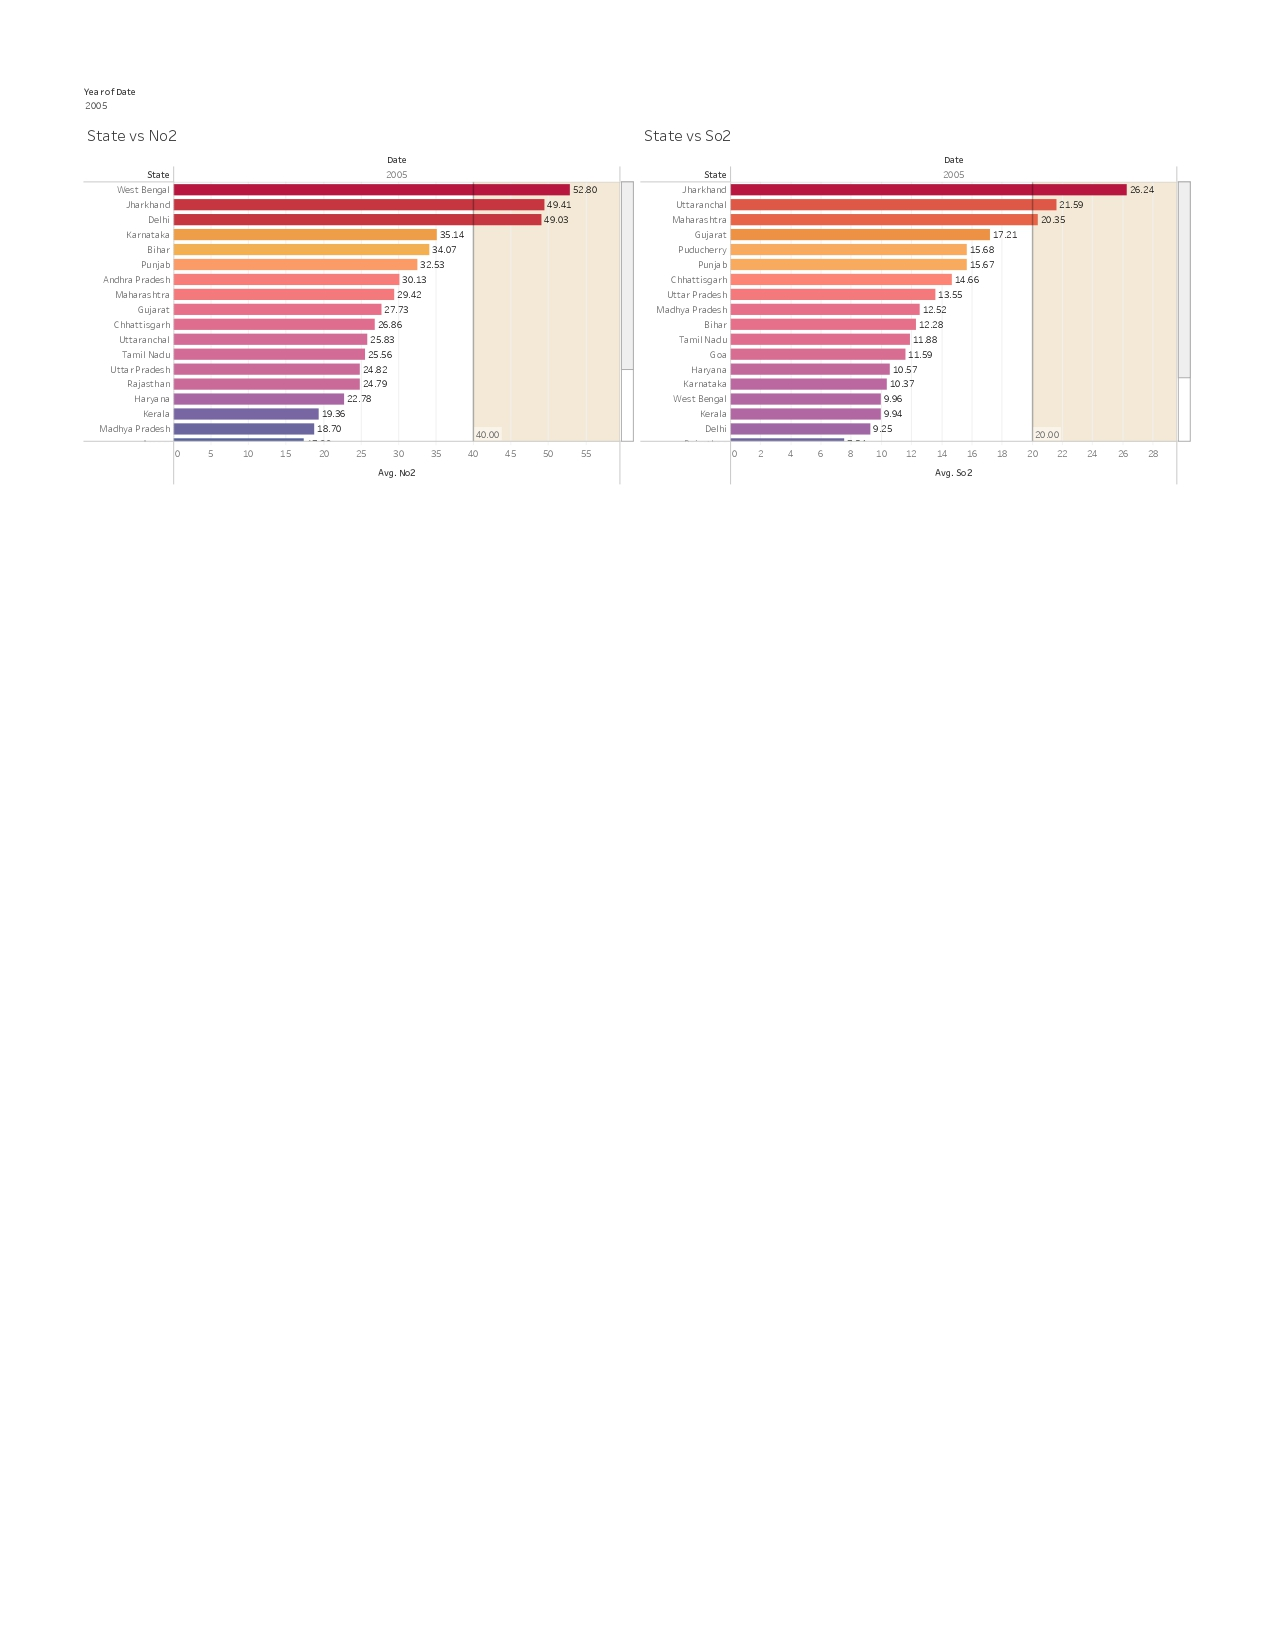

The page's visual inventory and layout, read from the dashboard file:
{"tool":"tableau","page":{"name":"Statewise No2 & So2","canvas":[1000,1000],"units":"permille","ordinal":1},"visuals":[{"type":"filter","title":"State vs No2","param":"[federated.1sf80ue0t62omh1cit8ws1le459c].[yr:date:ok]","box":[6.1,14.1,987.8,86.2]},{"type":"worksheet","title":"State vs No2","mark":"Automatic","rows":["state"],"cols":["date","no2"],"box":[6.1,100.3,493.9,885.6]},{"type":"worksheet","title":"State vs So2","mark":"Automatic","rows":["state"],"cols":["date","so2"],"box":[500,100.3,493.9,885.6]}]}

Visuals, with their boxes on the dashboard's canvas, which has no fixed pixel size, in thousandths of its width and height (x1, y1, x2, y2). These are canvas units, not pixel positions in the 1275x1650 screenshot, which may show the page scaled, cropped or inside an application window:
"State vs No2" filter: <region>6, 14, 994, 100</region>
"State vs No2" worksheet: <region>6, 100, 500, 986</region>
"State vs So2" worksheet: <region>500, 100, 994, 986</region>
